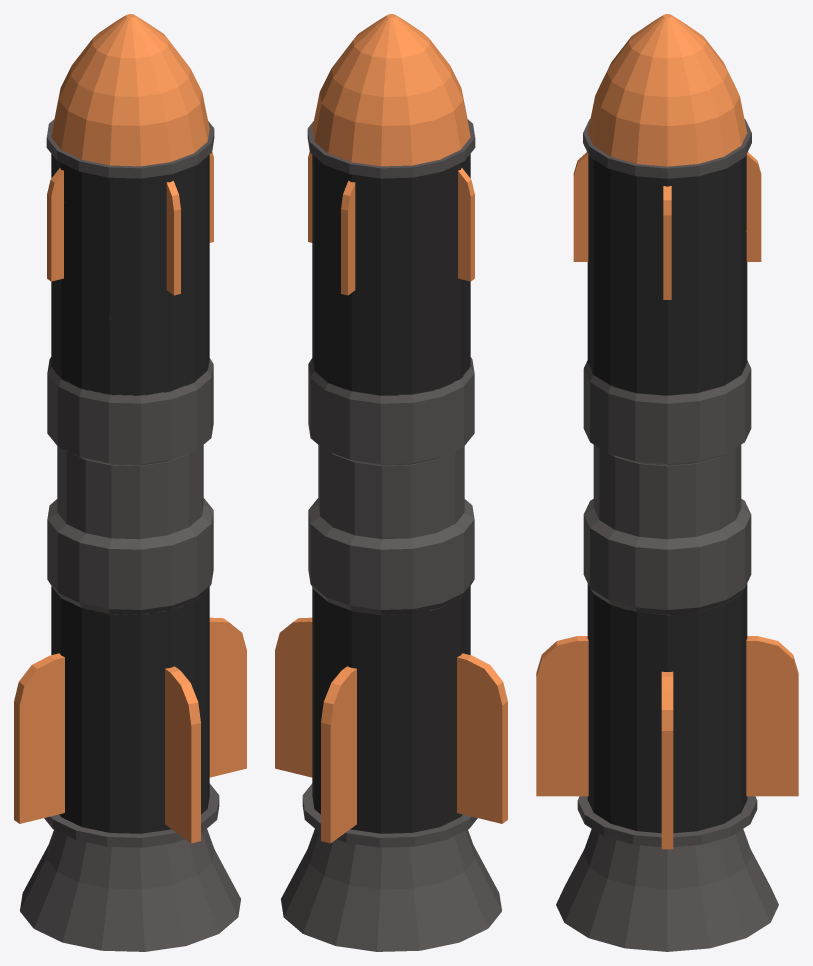
The model's file is missileLV2.fbx.
3 renders of one model, left to right at view 1: azimuth 30°, elevation 25°; view 2: azimuth 150°, elevation 25°; view 3: azimuth 270°, elevation 25°, orthographic.
Visible parts, largest first — view 1: r2; view 2: r2; view 3: r2.
Part boxes in pixels (x1,y1,x2,y2): r2: (14,14,246,951); r2: (275,14,507,951); r2: (536,14,798,951).
Size of the model in its own units: 449 by 1678 by 449.
Materials: 1 (1 with a texture image).
